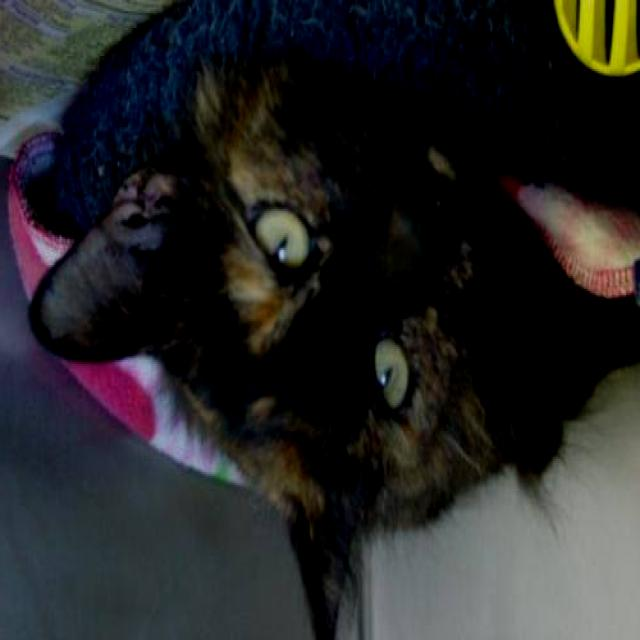Kucing: (0, 10, 634, 628)
